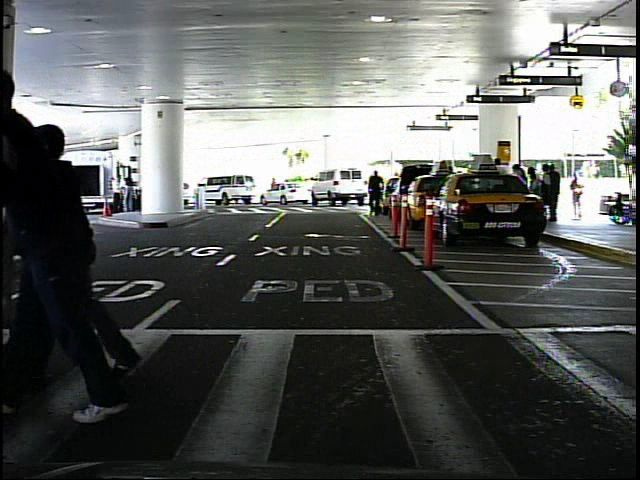person: (367, 169, 388, 217), (571, 172, 590, 218), (112, 175, 126, 214)
